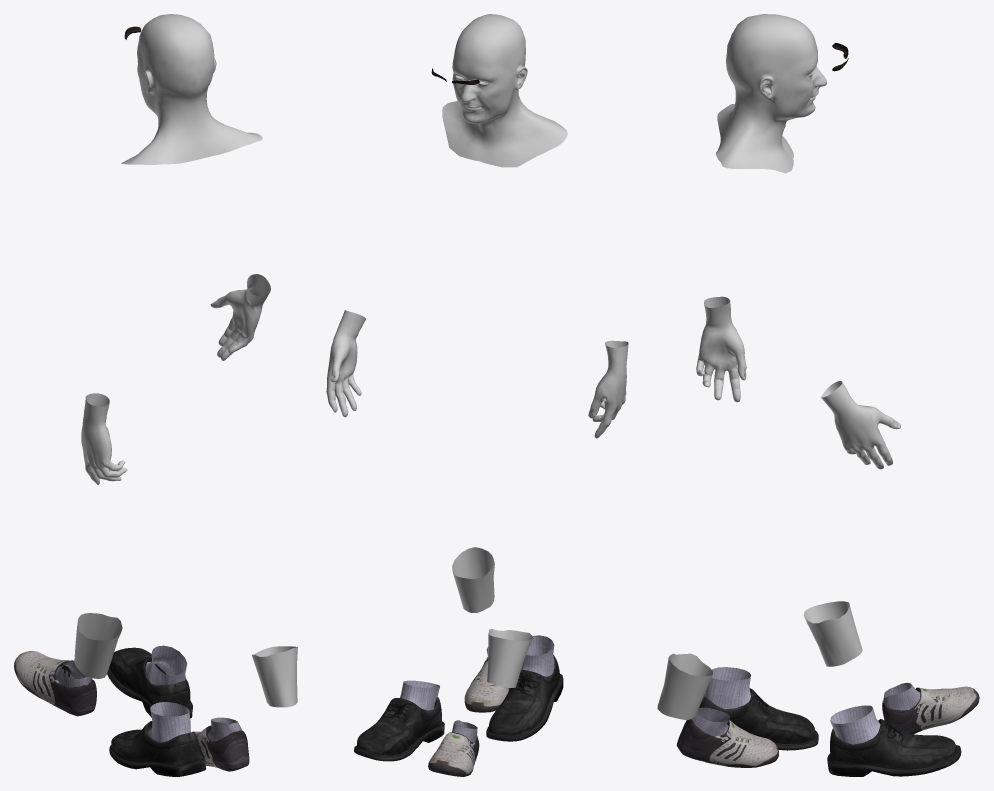
File: man_go.fbx
3 views of the same model, side by side, from view 1: azimuth 30°, elevation 25°; view 2: azimuth 150°, elevation 25°; view 3: azimuth 270°, elevation 25° (orthographic). The views are drawn at different scales.
Visible parts, largest first — view 1: M_1_go 01, W_2_go 01, W_1_go 01; view 2: M_1_go 01, W_2_go 01, W_1_go 01; view 3: M_1_go 01, W_2_go 01, W_1_go 01.
Part boxes in pixels (<box>): M_1_go 01: <box>74,14,297,707</box>; W_2_go 01: <box>107,645,206,776</box>; W_1_go 01: <box>14,651,249,771</box>; M_1_go 01: <box>326,14,628,687</box>; W_2_go 01: <box>354,635,563,761</box>; W_1_go 01: <box>428,647,509,776</box>; M_1_go 01: <box>657,14,900,720</box>; W_2_go 01: <box>699,667,961,776</box>; W_1_go 01: <box>676,682,979,767</box>.
Bounding box in the file's own units: 0.6082 × 1.78 × 0.7045.
